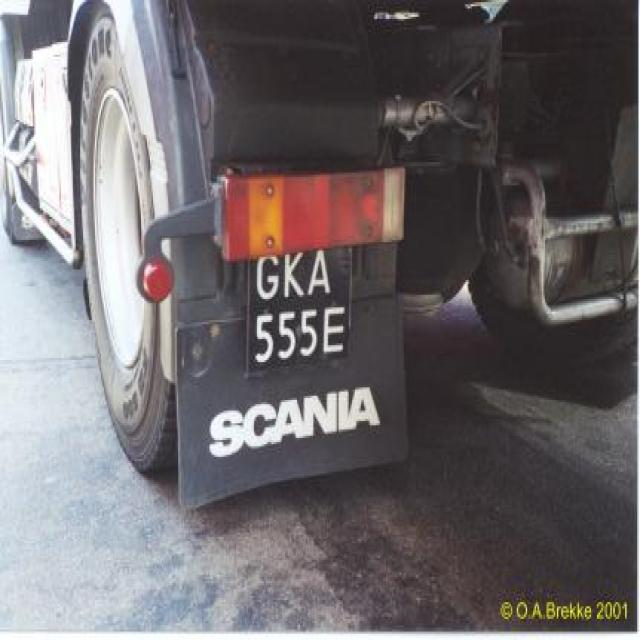pl_license_plate: (247, 246, 351, 368)
